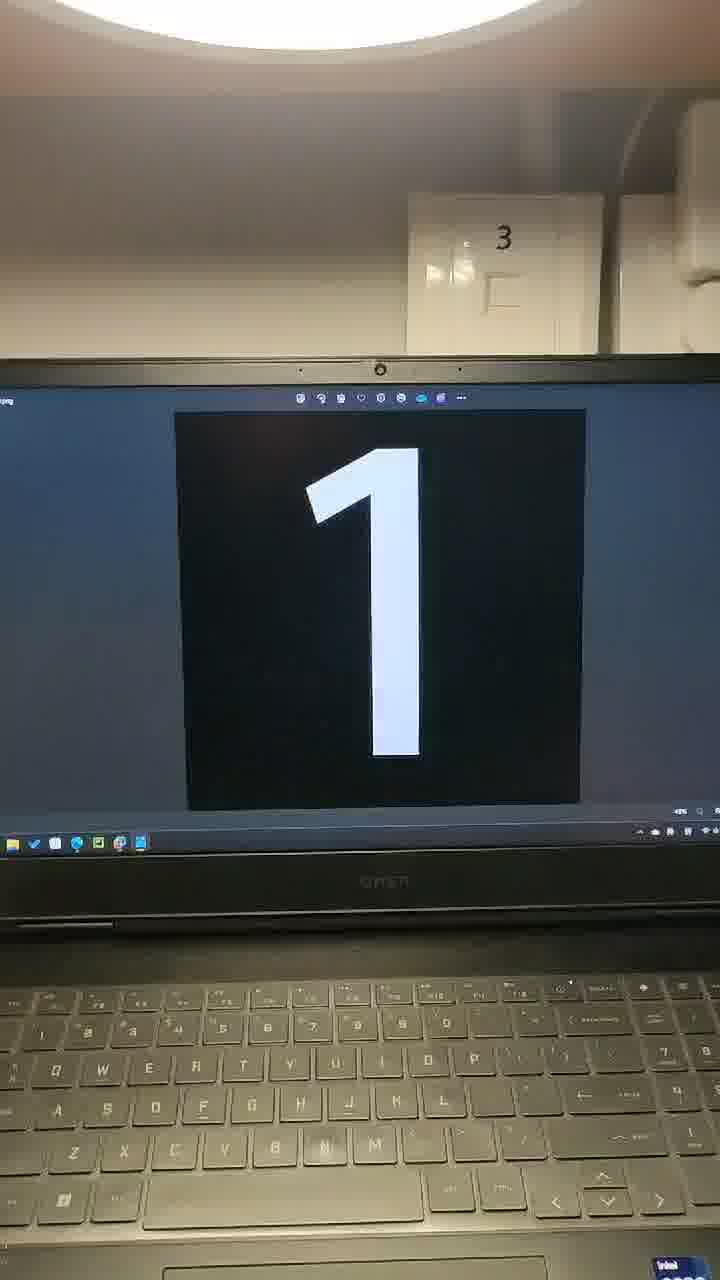one: (208, 354, 539, 826)
